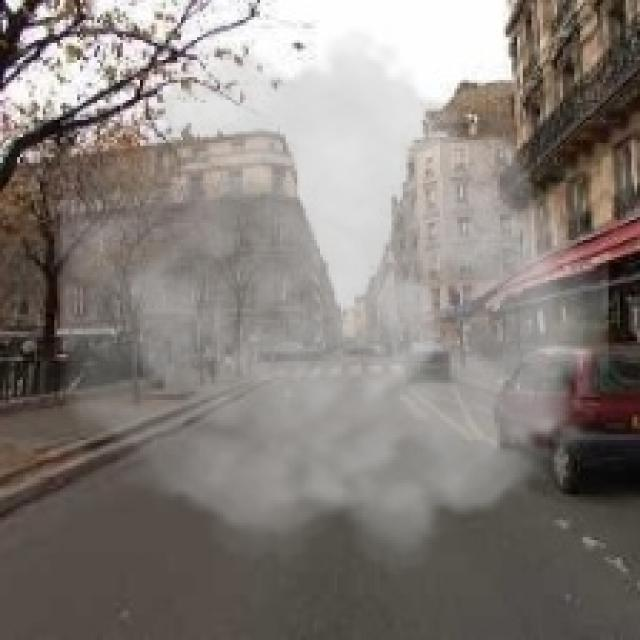Smoke: (60, 26, 609, 574)
